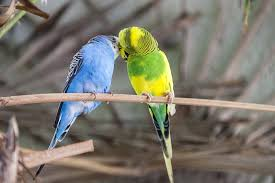budgie: (43, 30, 120, 172), (118, 24, 176, 183)
